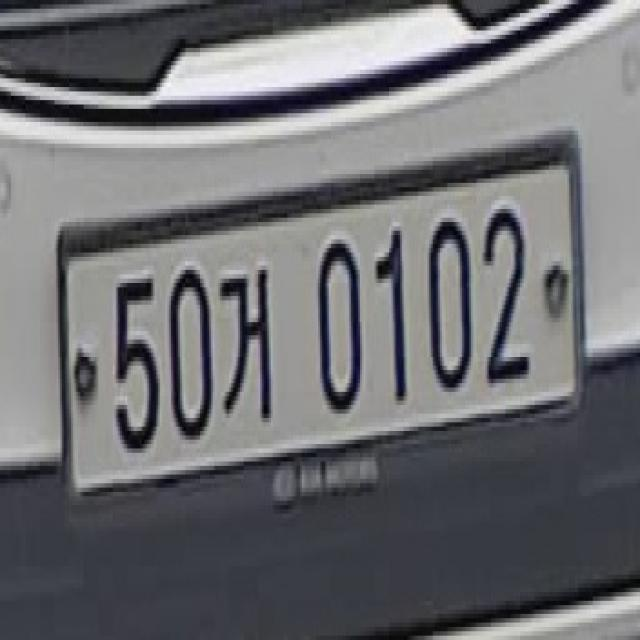0: (317, 225, 364, 424), (168, 261, 212, 448), (428, 207, 471, 397)
1: (372, 218, 415, 406)
2: (480, 196, 536, 393)
5: (108, 274, 159, 460)
geo: (217, 247, 281, 429)
license_plate: (54, 142, 586, 520)
